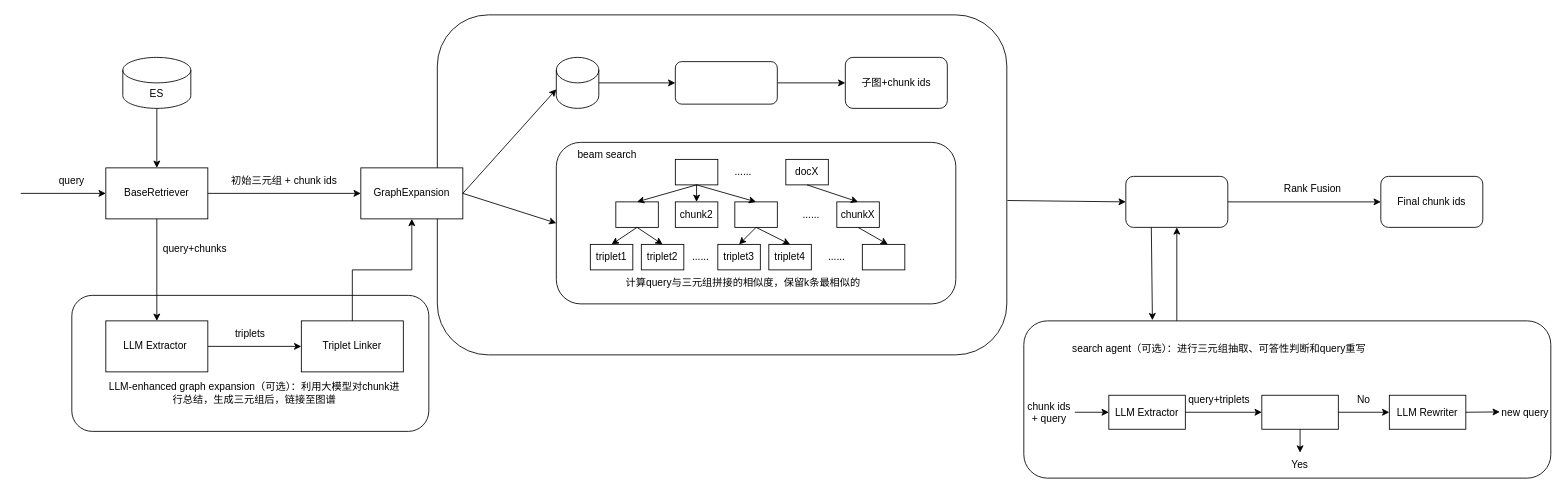
Image size: 1566x493. Some labels were removed from this diagram. Each missing label, with the box of its shape:
1阶（K阶）子图: (674, 61, 777, 104)
chunk ids: (1125, 176, 1228, 227)
chunk1: (615, 201, 658, 227)
chunk3: (734, 201, 777, 227)
doc1: (674, 159, 718, 185)
KG: (555, 57, 599, 108)
LLM Reasoner: (1261, 394, 1338, 429)
tripletX: (861, 244, 905, 270)
